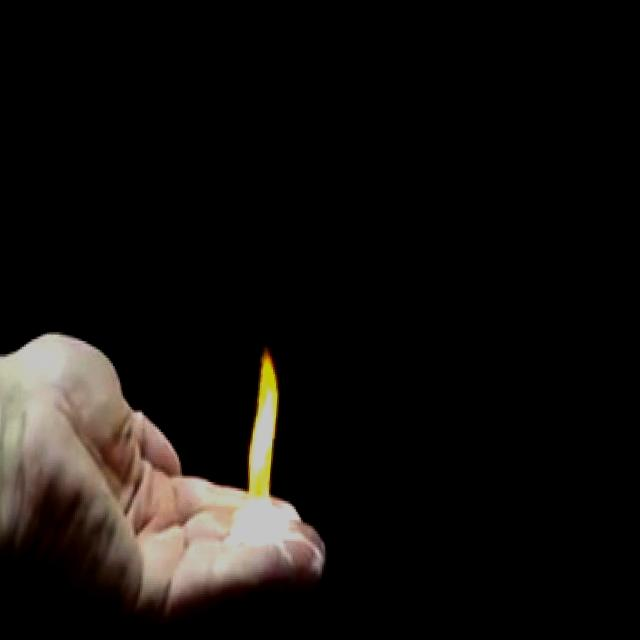helmet: (239, 330, 302, 531)
